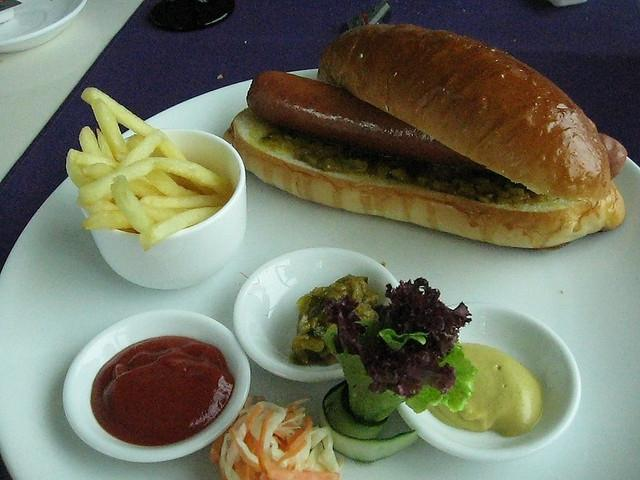lettuce: (308, 277, 478, 424)
